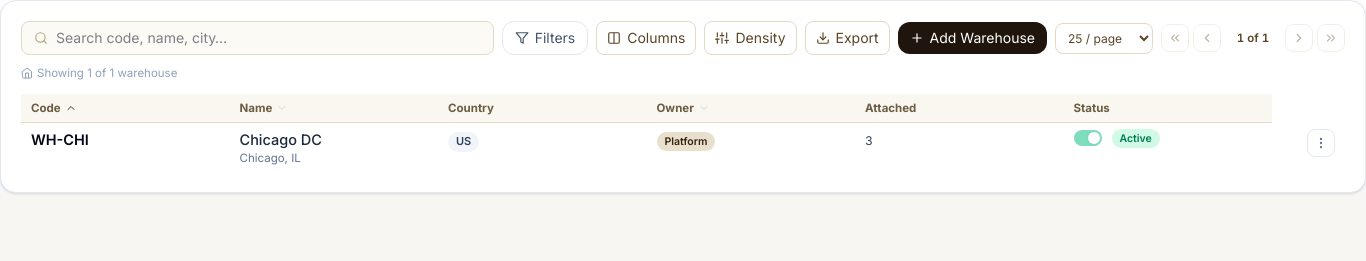
Test case: WarehousesPage · role gating › per-row kebab: USER sees Edit + Attach clients but NOT Delete
This screenshot has width=1366, height=261.
Expected: the text "WH-CHI" is shown, [31,131,89,148]
Click the button named "Row actions".
click(1321, 143)  # box [1307,129,1335,157]
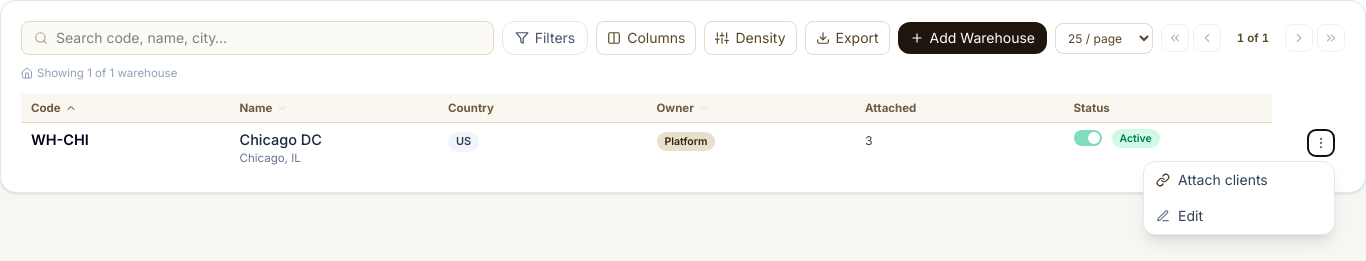
Result: the menu item "Edit" is shown at [1144,198,1334,234]
Result: the menu item "Attach clients" is shown at [1144,162,1334,198]
